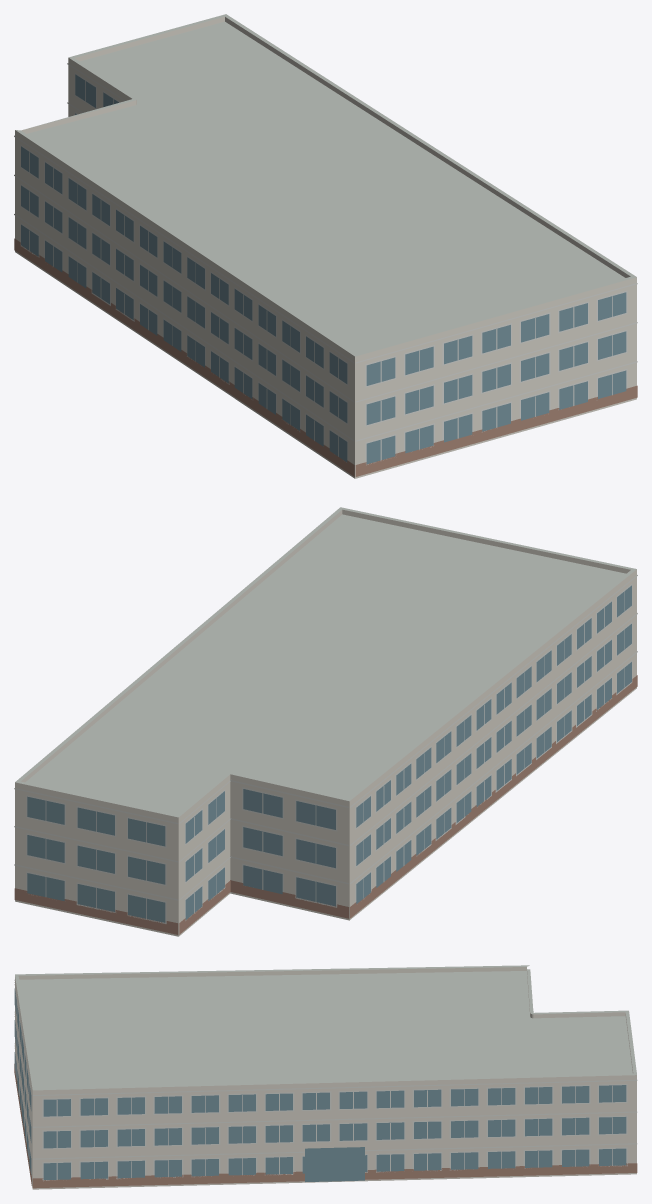
File: public-b1f996c3-0528-438e-aa21-098fe5946661.glb
3 views of the same model, one above another, from view 1: azimuth 30°, elevation 25°; view 2: azimuth 150°, elevation 25°; view 3: azimuth 270°, elevation 25° (orthographic). The views are drawn at different scales.
Parts seen in each view (by area): view 1: public-b1f996c3-0528-438e-aa21-098fe5946661; view 2: public-b1f996c3-0528-438e-aa21-098fe5946661; view 3: public-b1f996c3-0528-438e-aa21-098fe5946661.
Part boxes in pixels (x1,y1,x2,y2): public-b1f996c3-0528-438e-aa21-098fe5946661: (14,14,637,478); public-b1f996c3-0528-438e-aa21-098fe5946661: (14,507,637,936); public-b1f996c3-0528-438e-aa21-098fe5946661: (14,965,637,1189).
Size of the model in its own units: 24.88 by 9.15 by 52.15.
